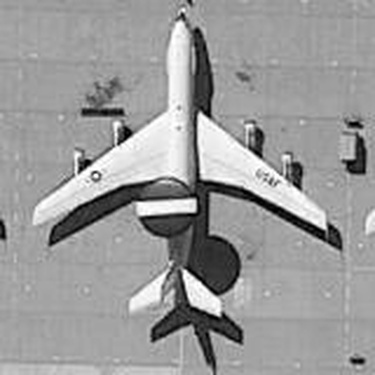airplane: (18, 9, 339, 341), (338, 186, 374, 258)
